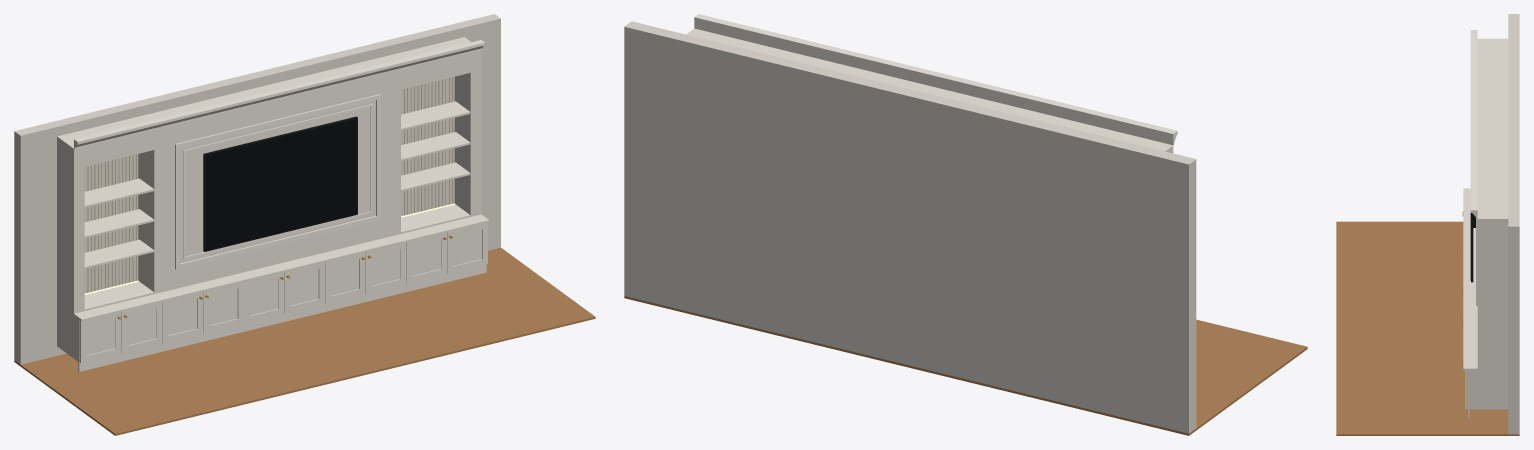
The model's file is a-q7qjvf.glb.
3 renders of one model, left to right at view 1: azimuth 30°, elevation 25°; view 2: azimuth 150°, elevation 25°; view 3: azimuth 270°, elevation 25°, orthographic. The views are drawn at different scales.
Parts seen in each view (by area): view 1: Room: Floor, Room: Back wall, Wall front: Middle, round the TV, Room: TV screen, Wall front: Band over the niches, Wall front: Cornice, Left niche: Fluted back, Right niche: Fluted back, Top over the cupboards, Wall front: End, left, TV frame: Moulding, outer, Right niche: Side, right (+38 smaller); view 2: Room: Back wall, Room: Floor, Wall front: Cornice, Wall front: Band over the niches; view 3: Room: Floor, Wall front: Band over the niches, Room: Back wall, Wall front: End, right, Top over the cupboards, Cupboard 5: End panel, right, Wall front: Cornice, Room: TV, 75 inch.
Boxes of the visible parts, bbox=[...] form: Room: Floor: bbox=[14, 247, 595, 435]; Room: Back wall: bbox=[14, 14, 500, 364]; Wall front: Middle, round the TV: bbox=[156, 88, 399, 293]; Room: TV screen: bbox=[206, 119, 356, 250]; Wall front: Band over the niches: bbox=[57, 37, 481, 167]; Wall front: Cornice: bbox=[74, 40, 484, 149]; Left niche: Fluted back: bbox=[84, 154, 138, 293]; Right niche: Fluted back: bbox=[401, 76, 454, 216]; Top over the cupboards: bbox=[57, 214, 489, 321]; Wall front: End, left: bbox=[57, 156, 82, 313]; TV frame: Moulding, outer: bbox=[175, 94, 380, 269]; Right niche: Side, right: bbox=[454, 71, 472, 216]; Room: Back wall: bbox=[624, 21, 1196, 433]; Room: Floor: bbox=[624, 296, 1307, 435]; Wall front: Cornice: bbox=[694, 14, 1177, 145]; Wall front: Band over the niches: bbox=[686, 28, 1173, 153]; Room: Floor: bbox=[1336, 221, 1519, 435]; Wall front: Band over the niches: bbox=[1477, 38, 1508, 236]; Room: Back wall: bbox=[1508, 14, 1519, 434]; Wall front: End, right: bbox=[1477, 236, 1508, 368]; Top over the cupboards: bbox=[1463, 188, 1508, 370]; Cupboard 5: End panel, right: bbox=[1467, 370, 1508, 409]; Wall front: Cornice: bbox=[1470, 30, 1477, 218]; Room: TV, 75 inch: bbox=[1471, 213, 1473, 282].
Size of the model in its own units: 5.27 by 2.42 by 1.92.
